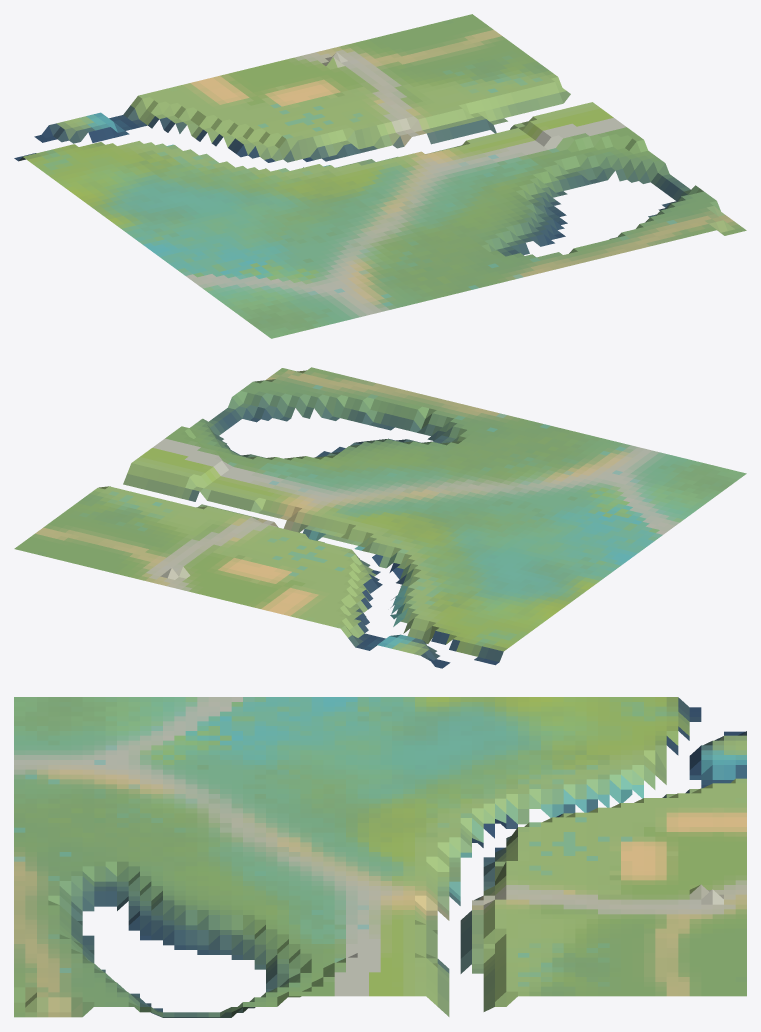
Rendered from test chunk 22.glb.
The picture shows the model from 3 angles, top to bottom: view 1: azimuth 30°, elevation 25°; view 2: azimuth 150°, elevation 25°; view 3: azimuth 270°, elevation 25°; orthographic projection. The views are drawn at different scales.
Parts seen in each view (by area): view 1: Chunk 22; view 2: Chunk 22; view 3: Chunk 22.
Boxes of the visible parts, x1,y1,x2,y2 form: Chunk 22: (14,14,746,338); Chunk 22: (14,367,746,668); Chunk 22: (14,697,746,1017).
Bounding box in the file's own units: 64 × 4 × 64.
Materials: 1 (1 with a texture image).
